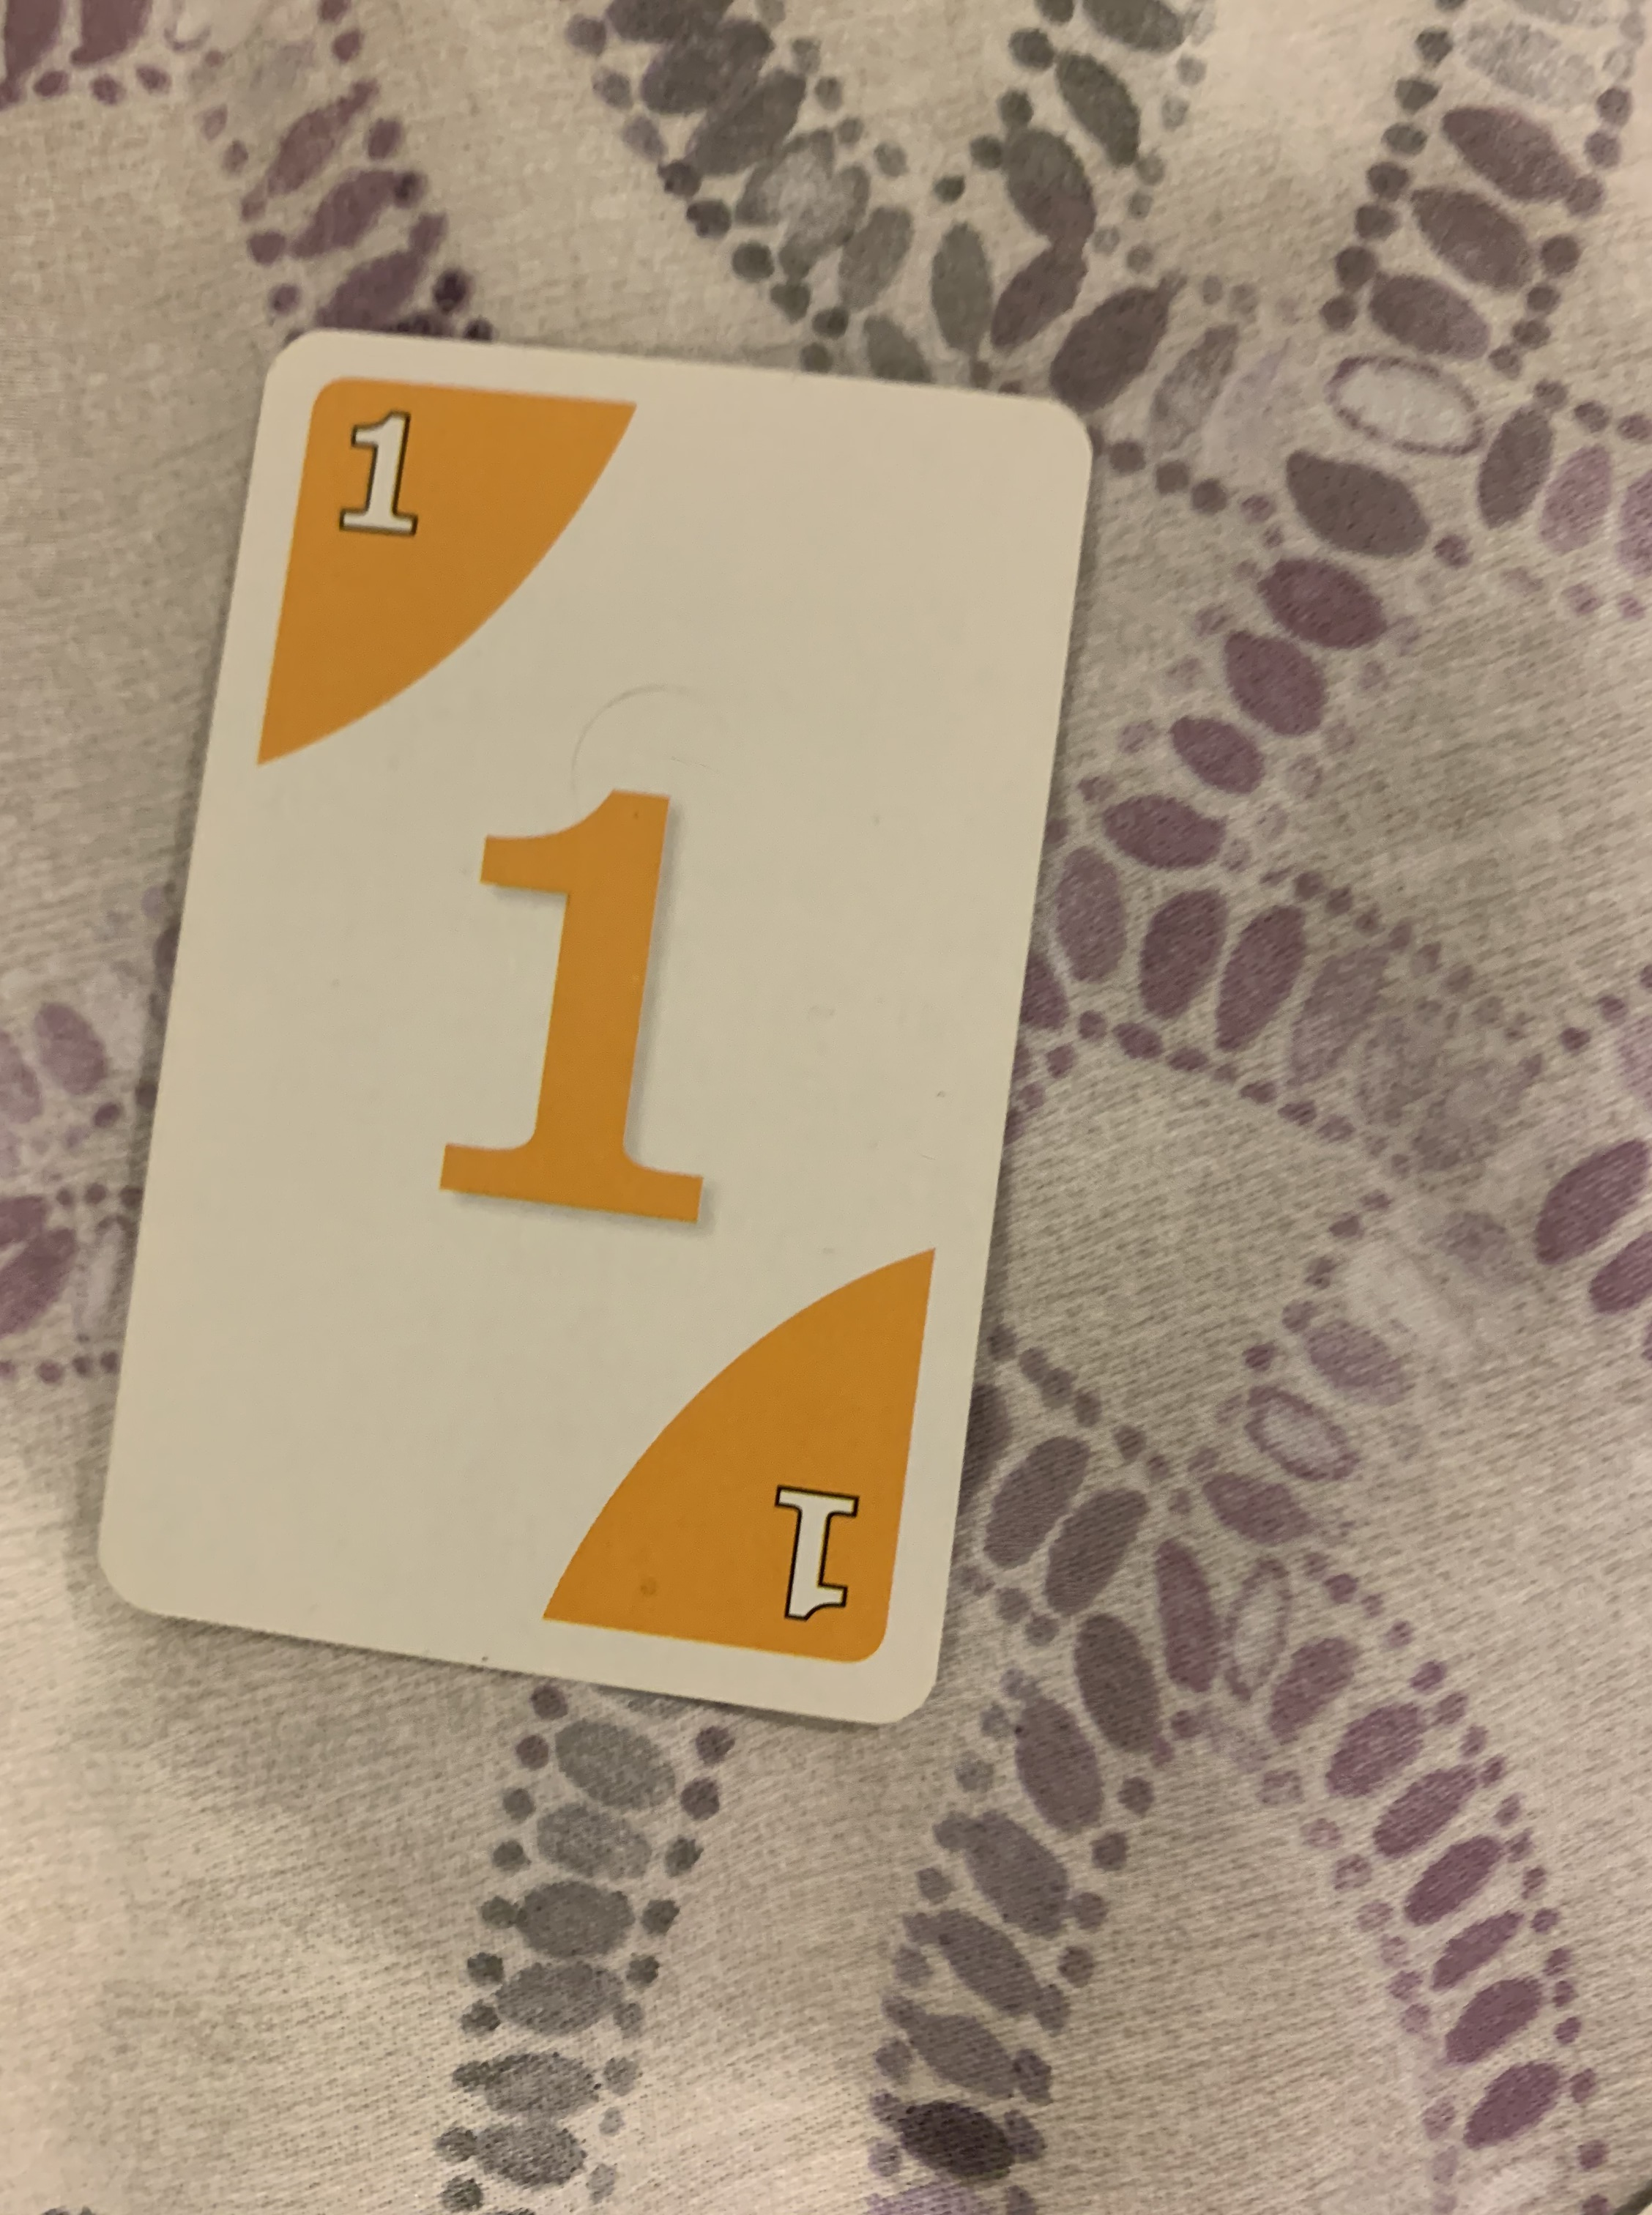one: (90, 330, 1081, 1727)
